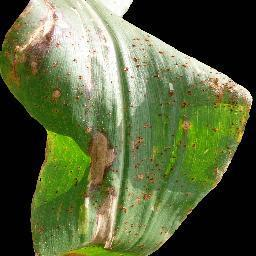Corn_Common_Rust: (179, 47, 253, 230), (123, 35, 178, 256), (0, 0, 73, 107), (81, 118, 123, 256), (73, 13, 106, 118), (26, 190, 46, 256), (34, 128, 54, 191), (53, 198, 76, 224), (57, 249, 81, 256), (73, 174, 79, 191)
